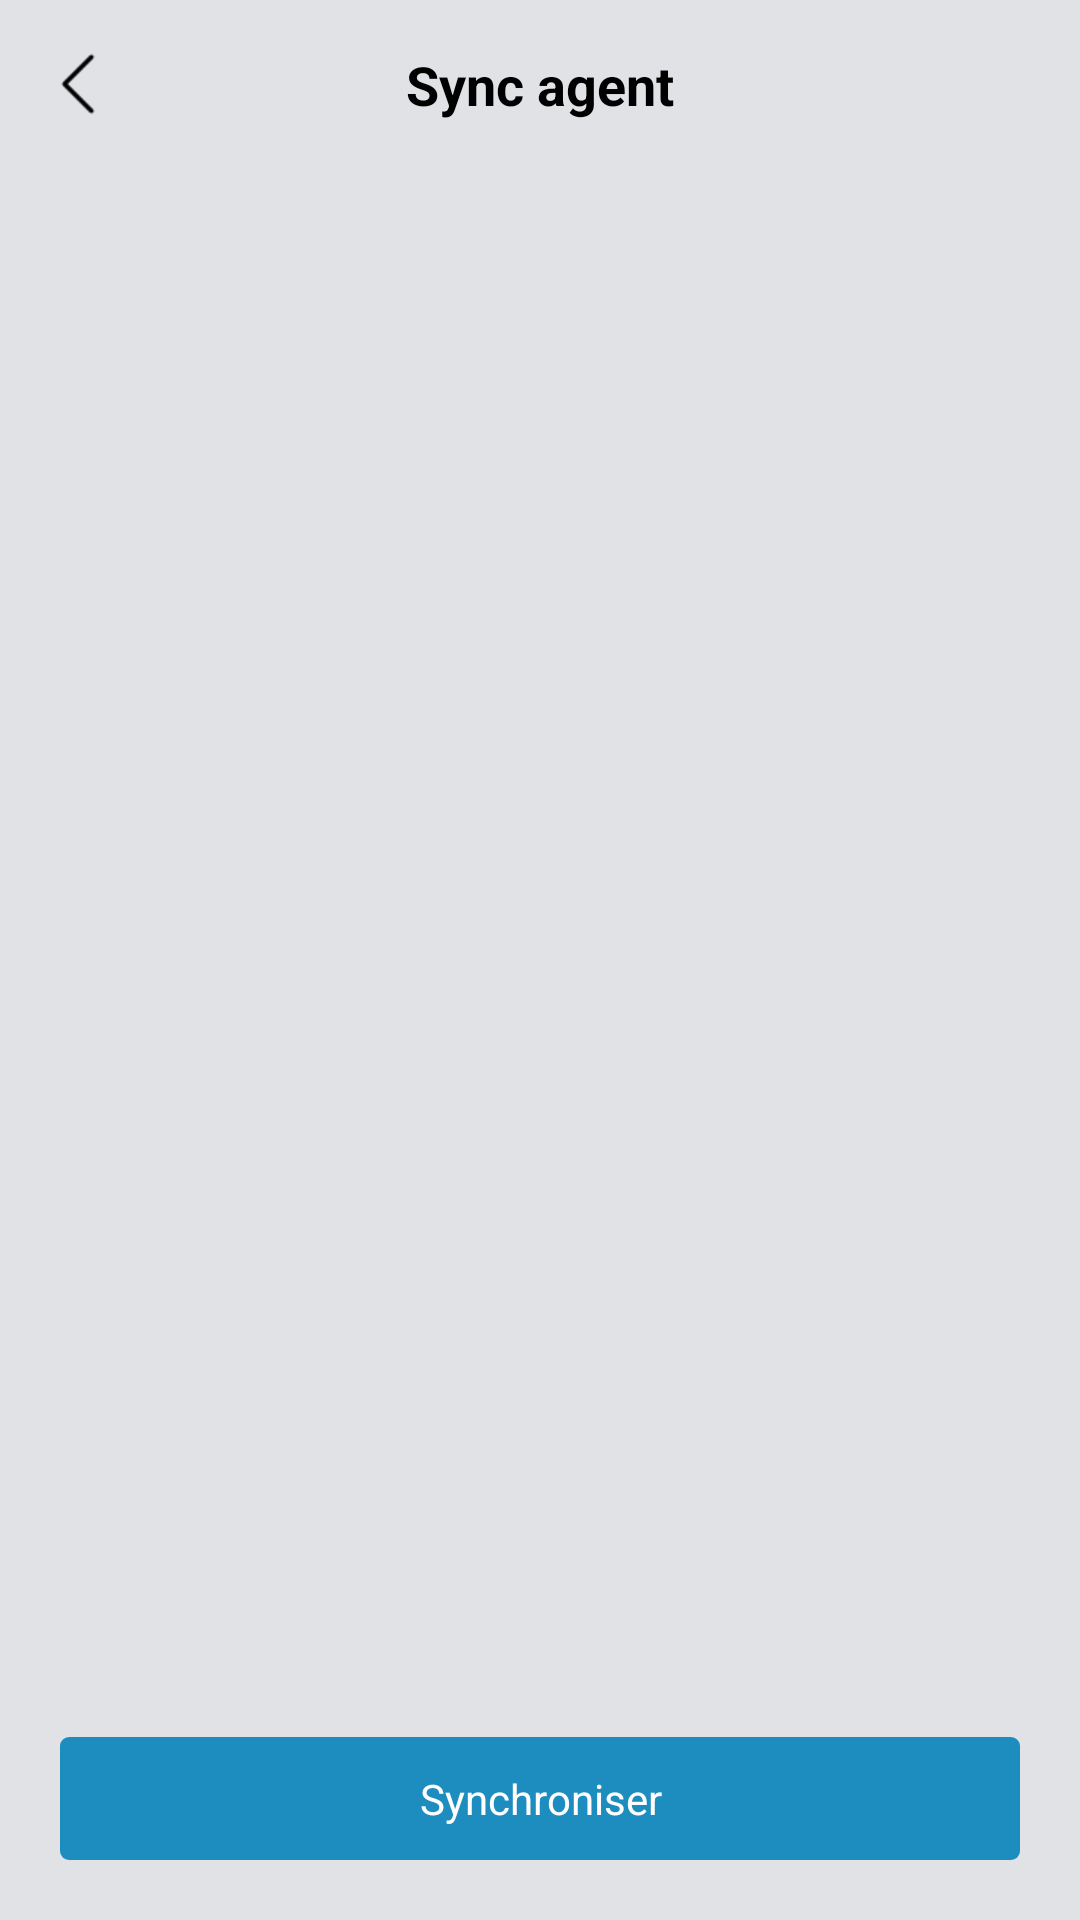

Named icons in this screenshot (1080 x 1920) and their bounding boxes, {"left": x1, "top": y1, "right": x2, "bottom": y2}:
back: {"left": 61, "top": 54, "right": 95, "bottom": 114}
